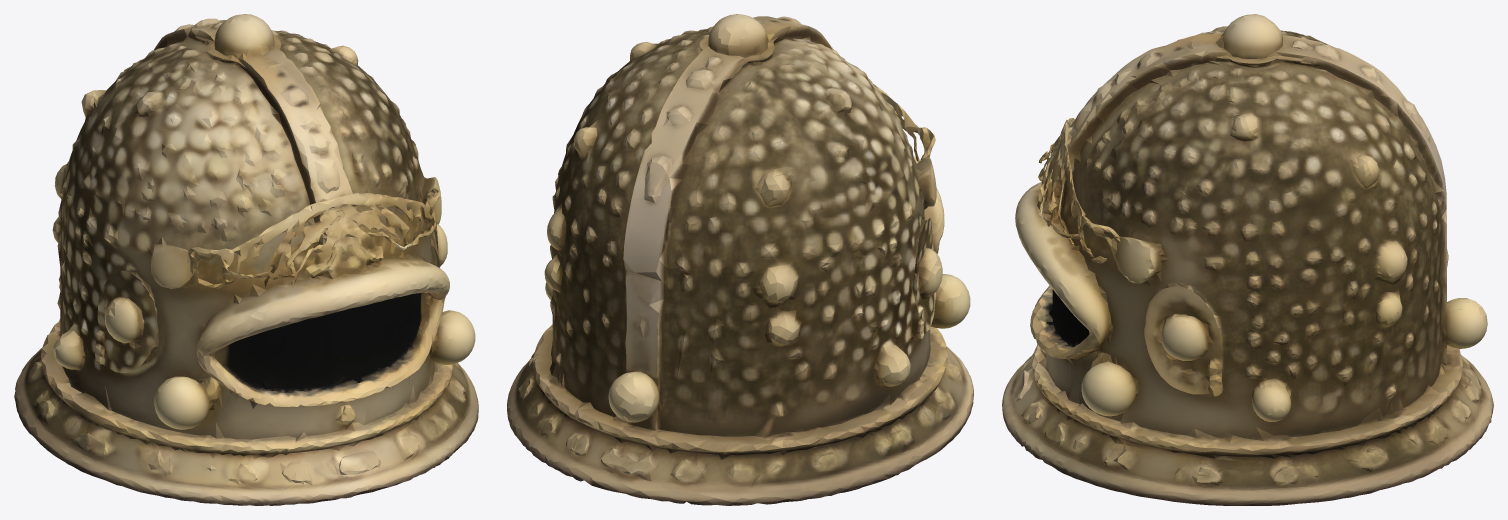
3 views of the same model, side by side, from view 1: azimuth 30°, elevation 25°; view 2: azimuth 150°, elevation 25°; view 3: azimuth 270°, elevation 25° (orthographic).
Visible parts, largest first — view 1: ThimbleHelmet; view 2: ThimbleHelmet; view 3: ThimbleHelmet.
Part boxes in pixels (x1,y1,x2,y2): ThimbleHelmet: (14, 14, 478, 505); ThimbleHelmet: (507, 14, 973, 505); ThimbleHelmet: (1002, 14, 1493, 505).
Size of the model in its own units: 1.78 by 1.67 by 1.9.
Materials: 1 (1 with a texture image).
